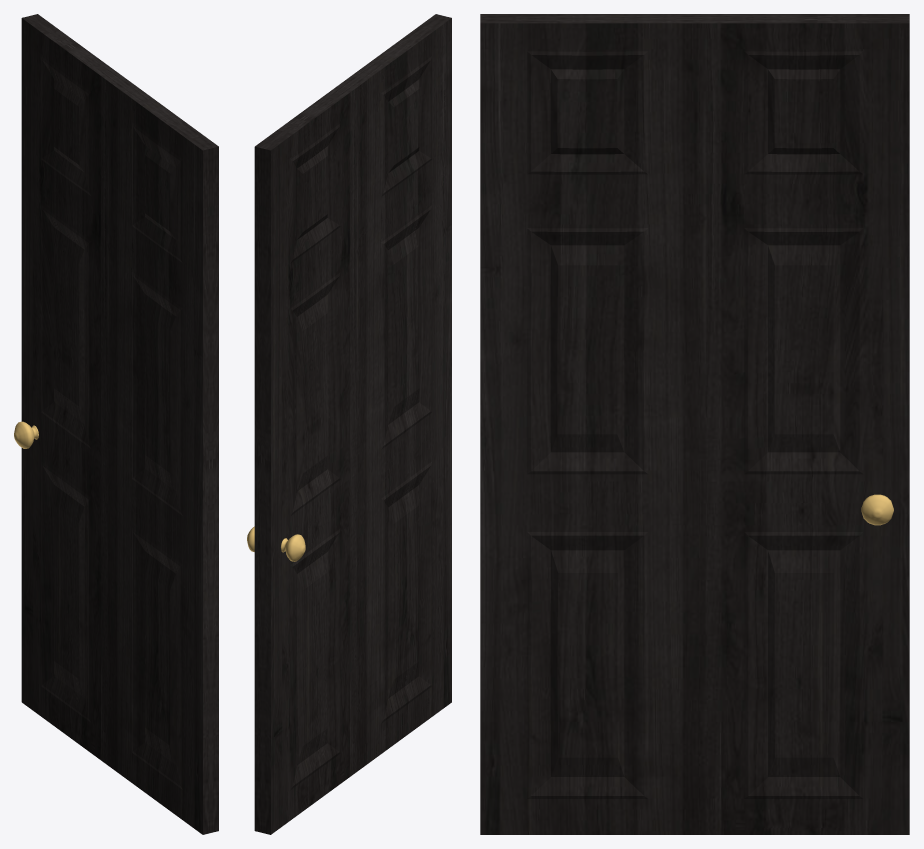
File: door.fbx
3 renders of one model, left to right at view 1: azimuth 30°, elevation 25°; view 2: azimuth 150°, elevation 25°; view 3: azimuth 270°, elevation 25°, orthographic. The views are drawn at different scales.
Visible parts, largest first — view 1: Cube; view 2: Cube; view 3: Cube.
Part boxes in pixels (x1,y1,x2,y2): Cube: (14,14,218,834); Cube: (247,14,451,834); Cube: (480,14,909,834).
Bounding box in the file's own units: 24.71 × 288 × 138.
